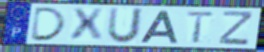A: (139, 10, 180, 44)
D: (28, 6, 69, 42)
T: (184, 10, 217, 45)
U: (105, 6, 146, 45)
X: (69, 8, 105, 43)
Z: (217, 10, 255, 47)
